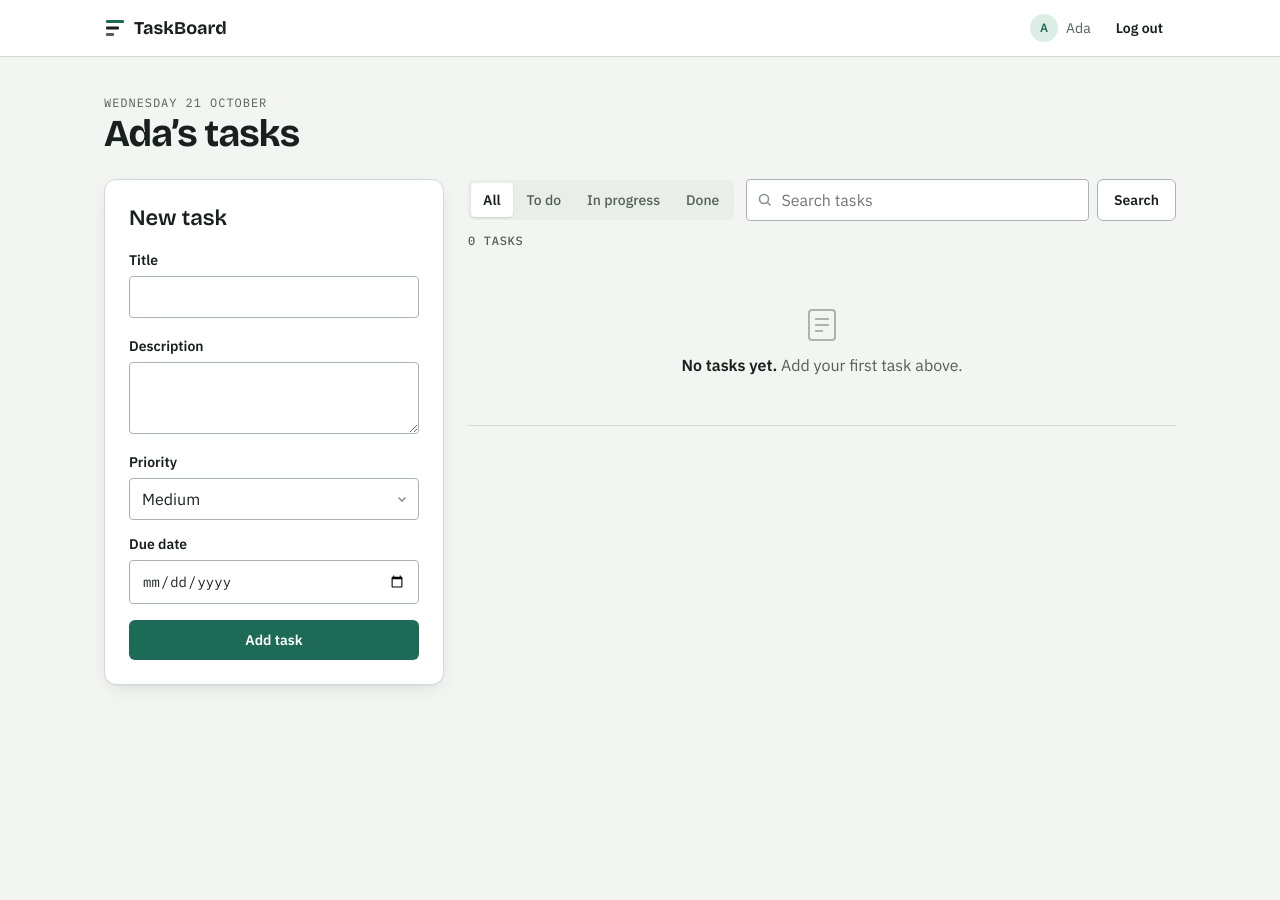
Test: App › ignores a slow response for a superseded filter
Expected: the element with test id "empty-state" is shown, 468,257 -> 1176,426
Click the button "To do" at (544, 200), box 514,183 -> 573,217
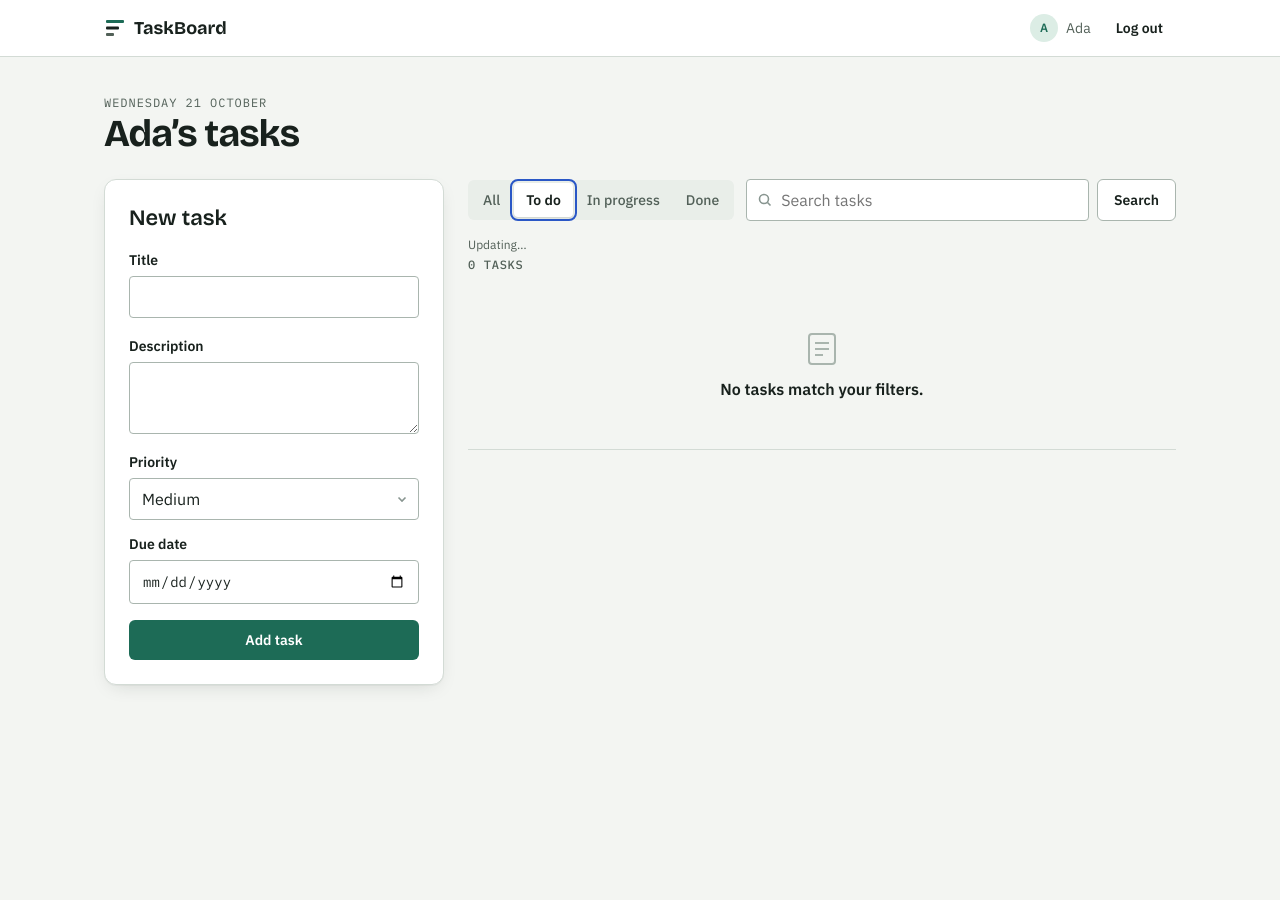
Click the button "Done" at (702, 200), box 674,183 -> 731,217
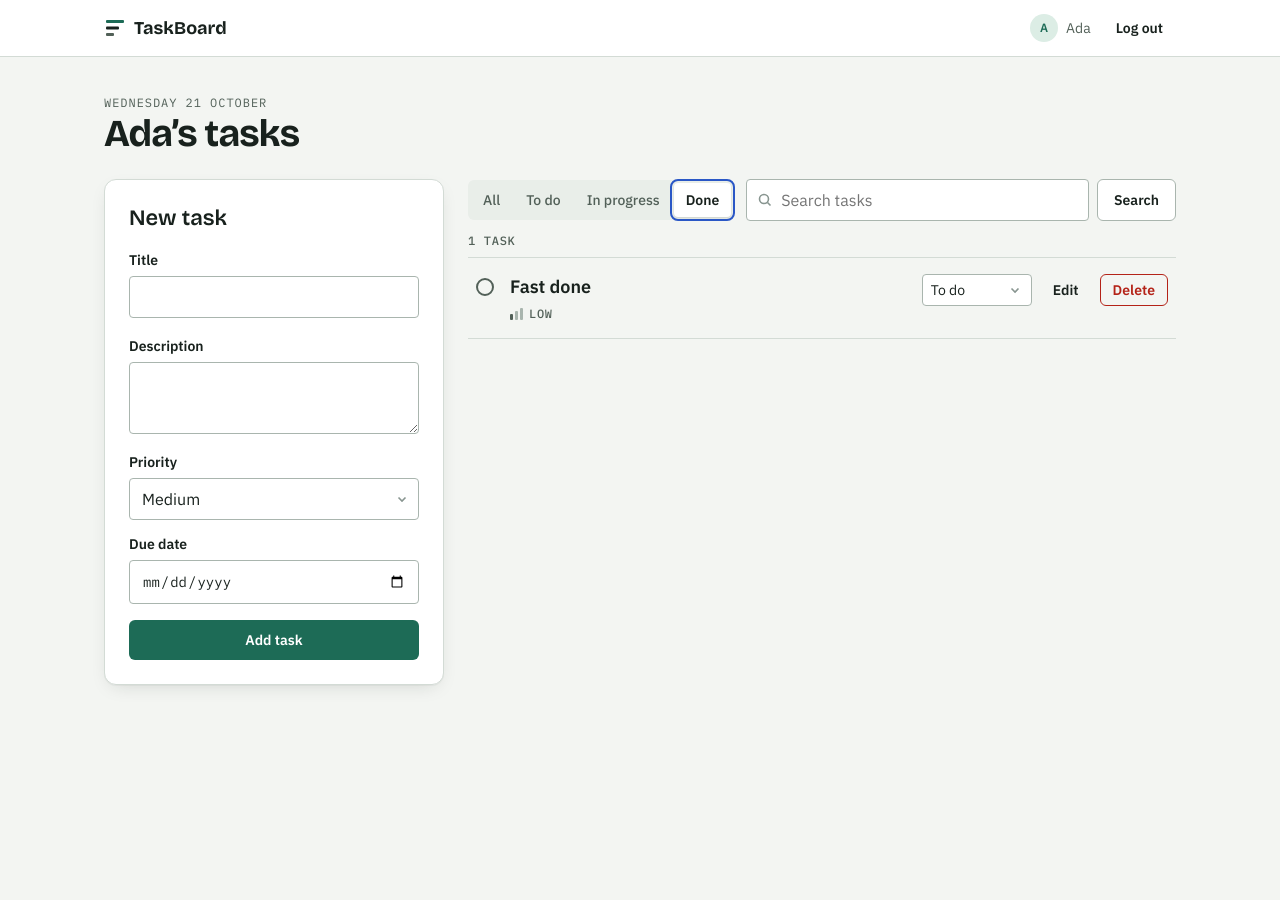
Expected: the heading "Fast done" is shown, 510,275 -> 591,298
